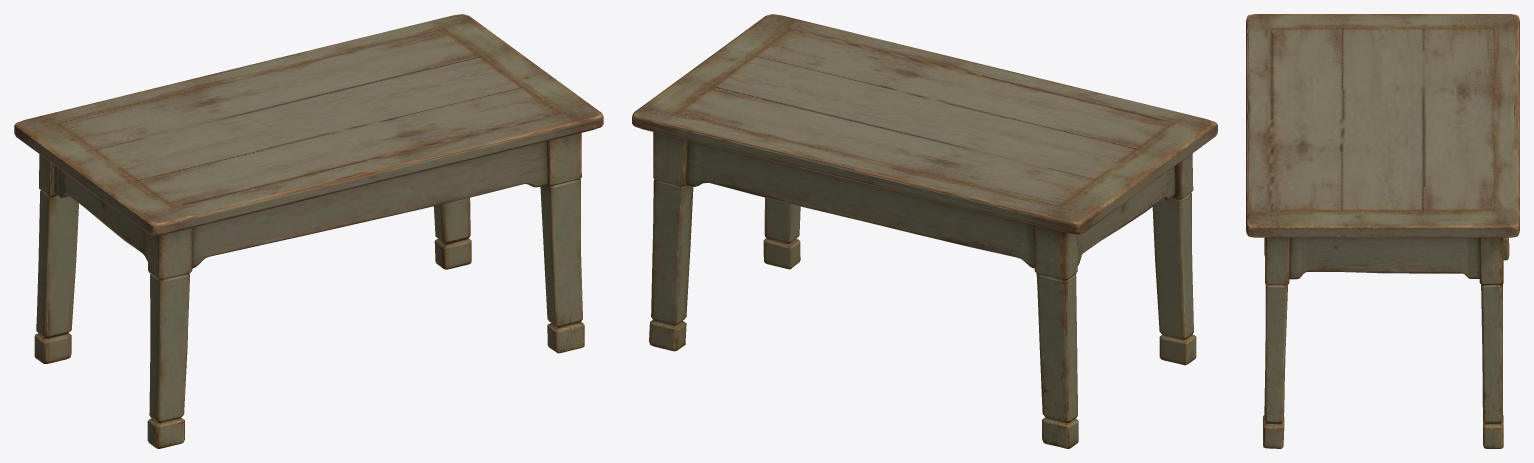
Rendered from furniture-child-table.glb.
3 views of the same model, side by side, from view 1: azimuth 30°, elevation 25°; view 2: azimuth 150°, elevation 25°; view 3: azimuth 270°, elevation 25° (orthographic). The views are drawn at different scales.
Visible parts, largest first — view 1: tripo_node_867103fb-bb04-4d2b-acb2-8ae180125c58; view 2: tripo_node_867103fb-bb04-4d2b-acb2-8ae180125c58; view 3: tripo_node_867103fb-bb04-4d2b-acb2-8ae180125c58.
Boxes of the visible parts, x1=… form: tripo_node_867103fb-bb04-4d2b-acb2-8ae180125c58: x1=14, y1=14, x2=603, y2=448; tripo_node_867103fb-bb04-4d2b-acb2-8ae180125c58: x1=632, y1=14, x2=1217, y2=448; tripo_node_867103fb-bb04-4d2b-acb2-8ae180125c58: x1=1246, y1=14, x2=1519, y2=448.
Bounding box in the file's own units: 1.2 × 0.6 × 0.65.
Materials: 1 (1 with a texture image).
